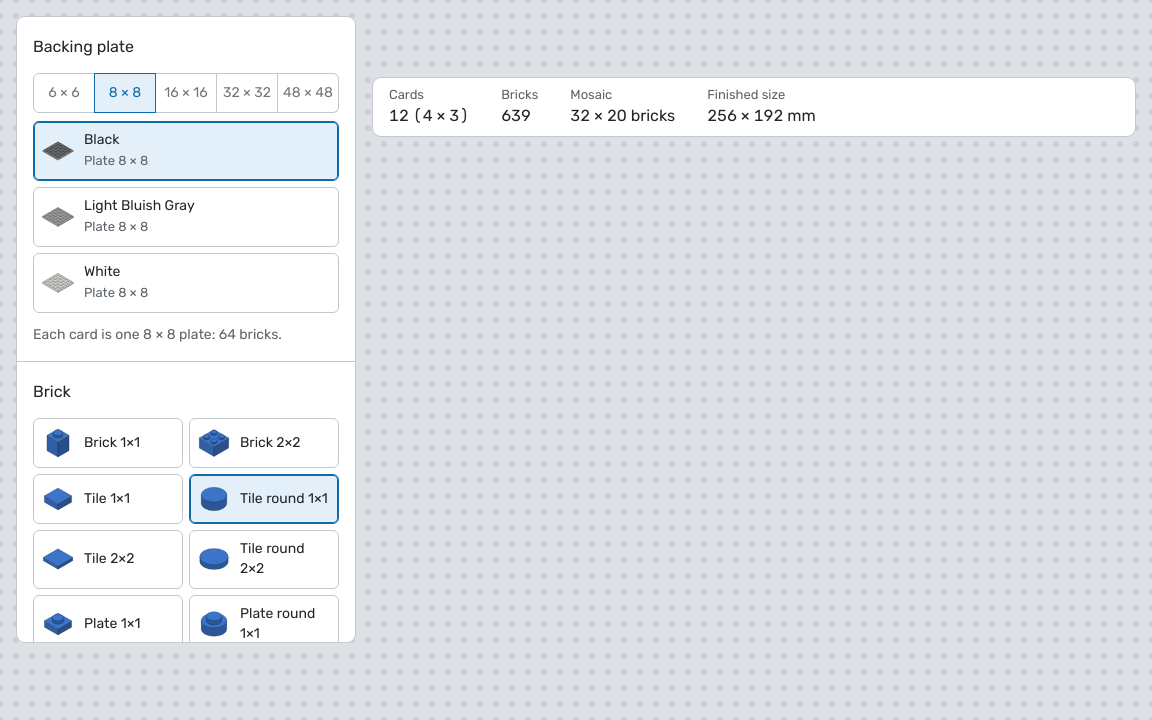
Scenario: Bricks step › changes the brick
This screenshot has width=1152, height=720.
Check: the element named "Tools" is shown, box top-left (16, 16), bottom-right (356, 643)
Click the button "Brick 1×1" at (108,443), box top-left (33, 418), bottom-right (183, 468)
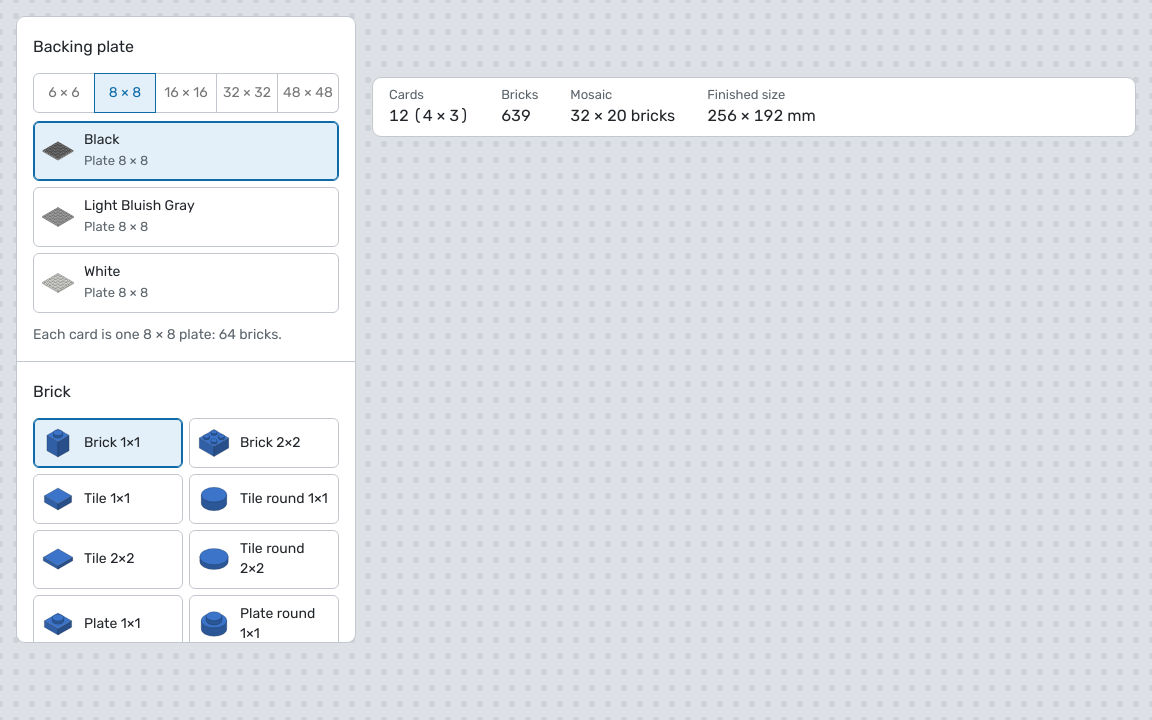
Check: the button "Brick 1×1" is pressed, box top-left (33, 418), bottom-right (183, 468)
Check: the button "Tile round 1×1" is not pressed, box top-left (189, 474), bottom-right (339, 524)
